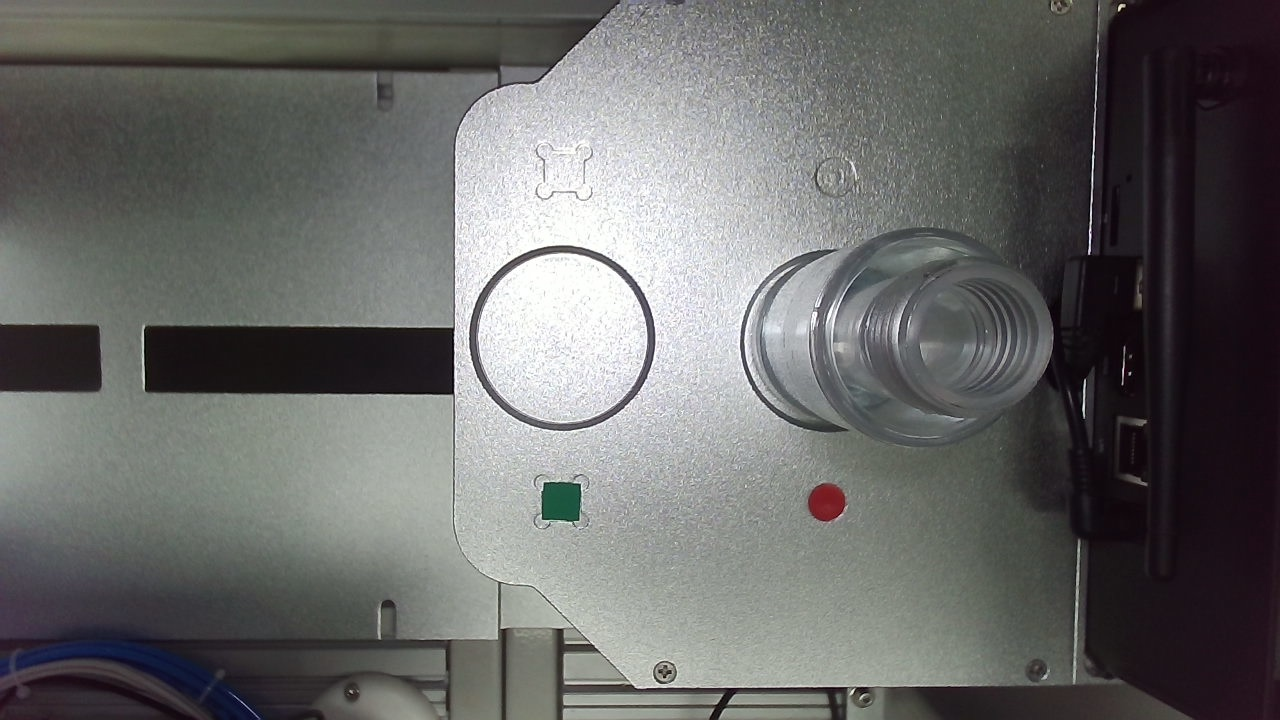XLabel: (604, 312, 637, 344)
YLabel: (383, 307, 418, 342)
none: (540, 381, 700, 543)
transparenexcept: (191, 377, 478, 597)
